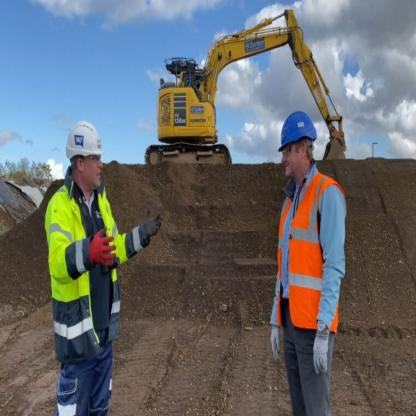person: (38, 107, 139, 415), (258, 86, 350, 414)
